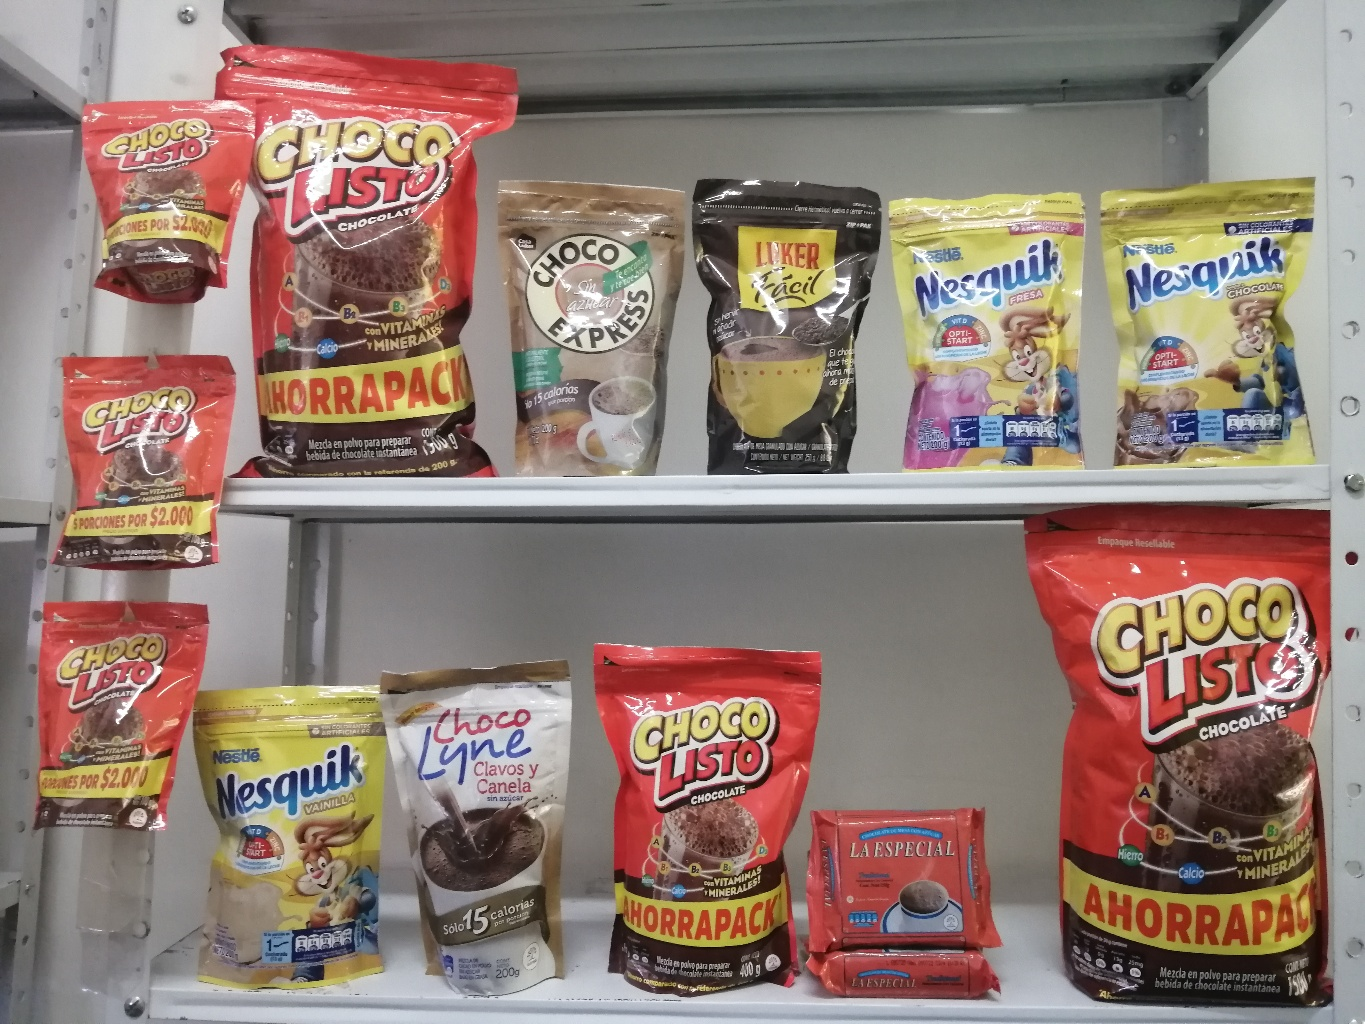COL0170103DYP1,500: (228, 30, 507, 478)
COL0170103DYP10000: (70, 84, 247, 305)
COL0170103DYP40000: (580, 637, 817, 995)
COL0170303DYP20000: (1089, 161, 1332, 464)
COL0170305DYP20000: (882, 184, 1101, 472)
COL0170306DYP20000: (176, 668, 403, 999)
